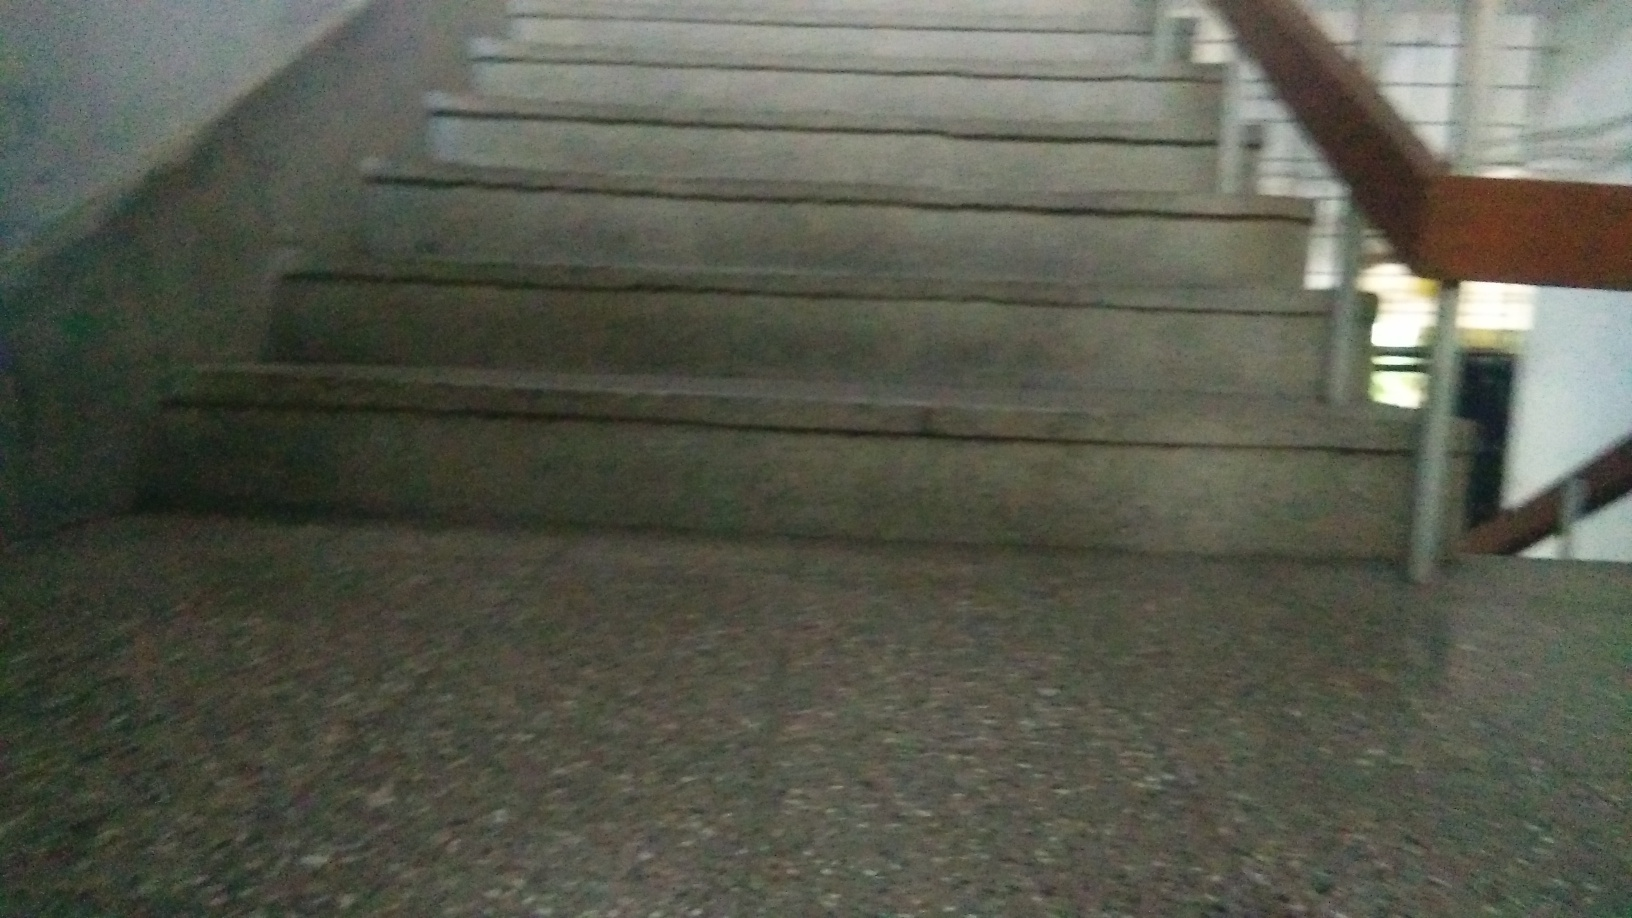stairs_up: (163, 7, 1464, 592)
